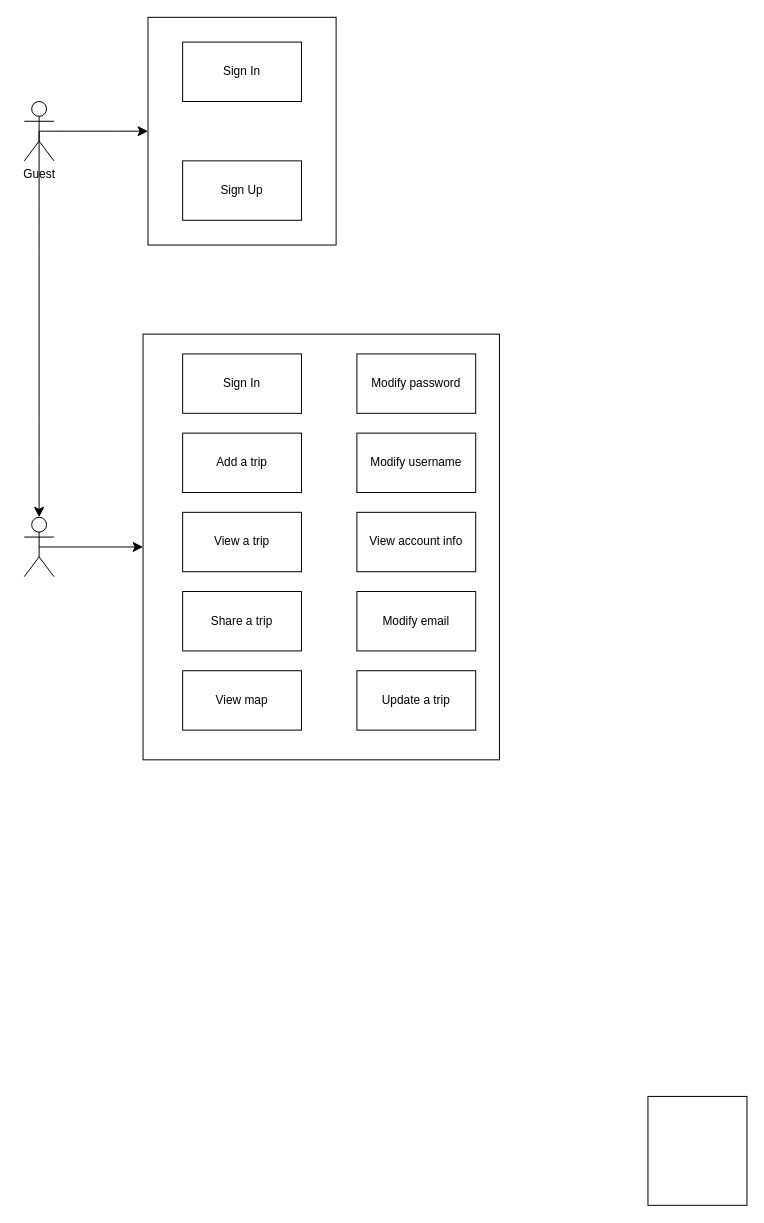
Some shapes in this 764 by 1223 pixel diagram are drawn without their labels. Here are the shapes that lost their labels. From the top down, the box of each, then its label:
(23, 516, 54, 577): Member
(647, 1095, 747, 1205): My map
